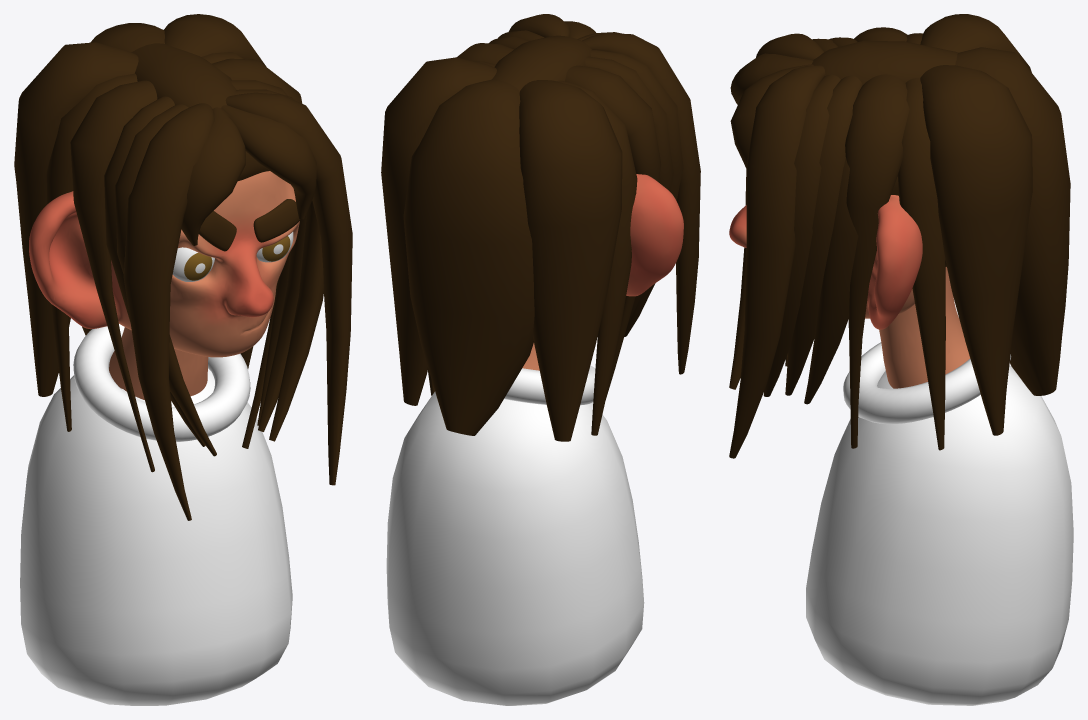
The model's file is valo facce.fbx.
The picture shows the model from 3 angles, left to right: view 1: azimuth 30°, elevation 25°; view 2: azimuth 150°, elevation 25°; view 3: azimuth 270°, elevation 25°; orthographic projection. The views are drawn at different scales.
Visible parts, largest first — view 1: Sphere; view 2: Sphere; view 3: Sphere.
Part boxes in pixels (x1,y1,x2,y2): Sphere: (14, 14, 352, 705); Sphere: (381, 14, 700, 705); Sphere: (729, 14, 1073, 705).
Size of the model in its own units: 275 by 562 by 277.
